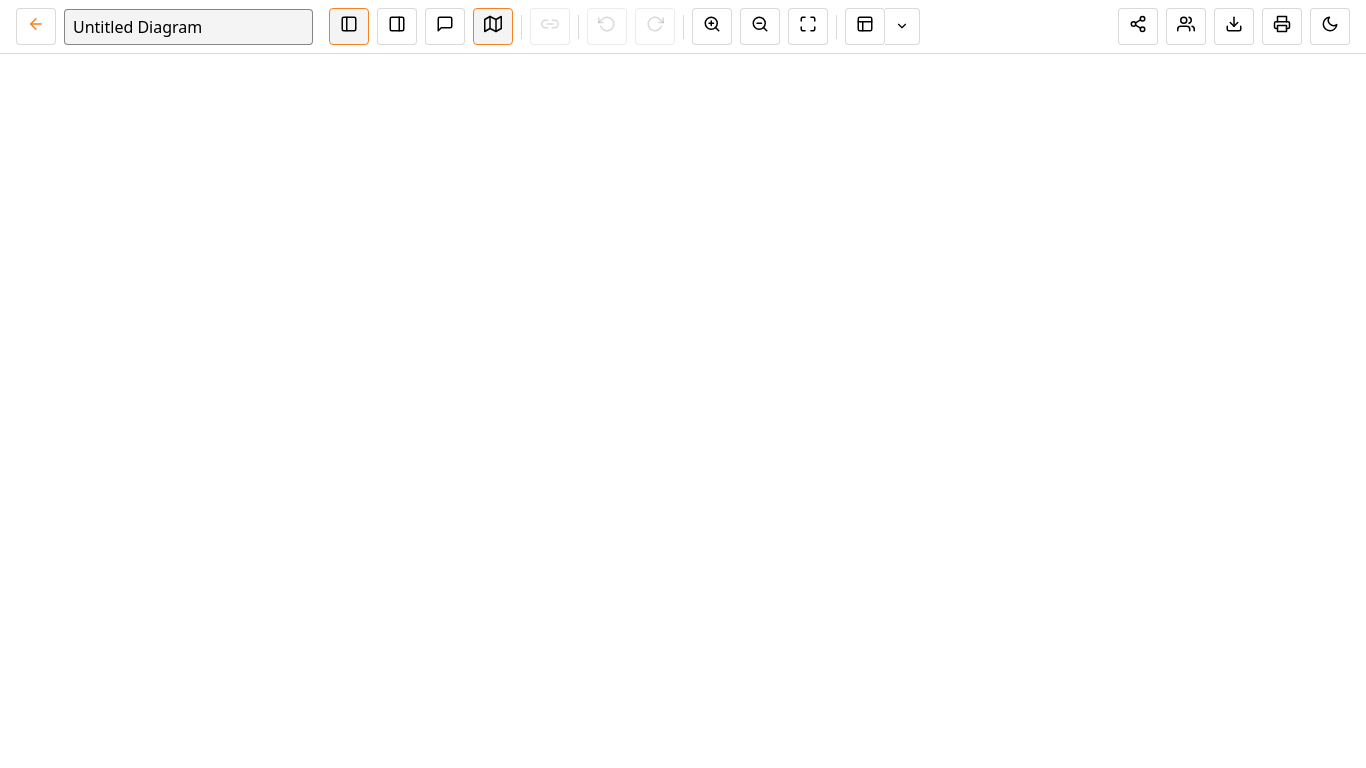
Test: Toolbar › opens the share modal for the loaded diagram
Click the button titled "Share diagram". click: (1138, 26)
box: [1118,8,1158,45]
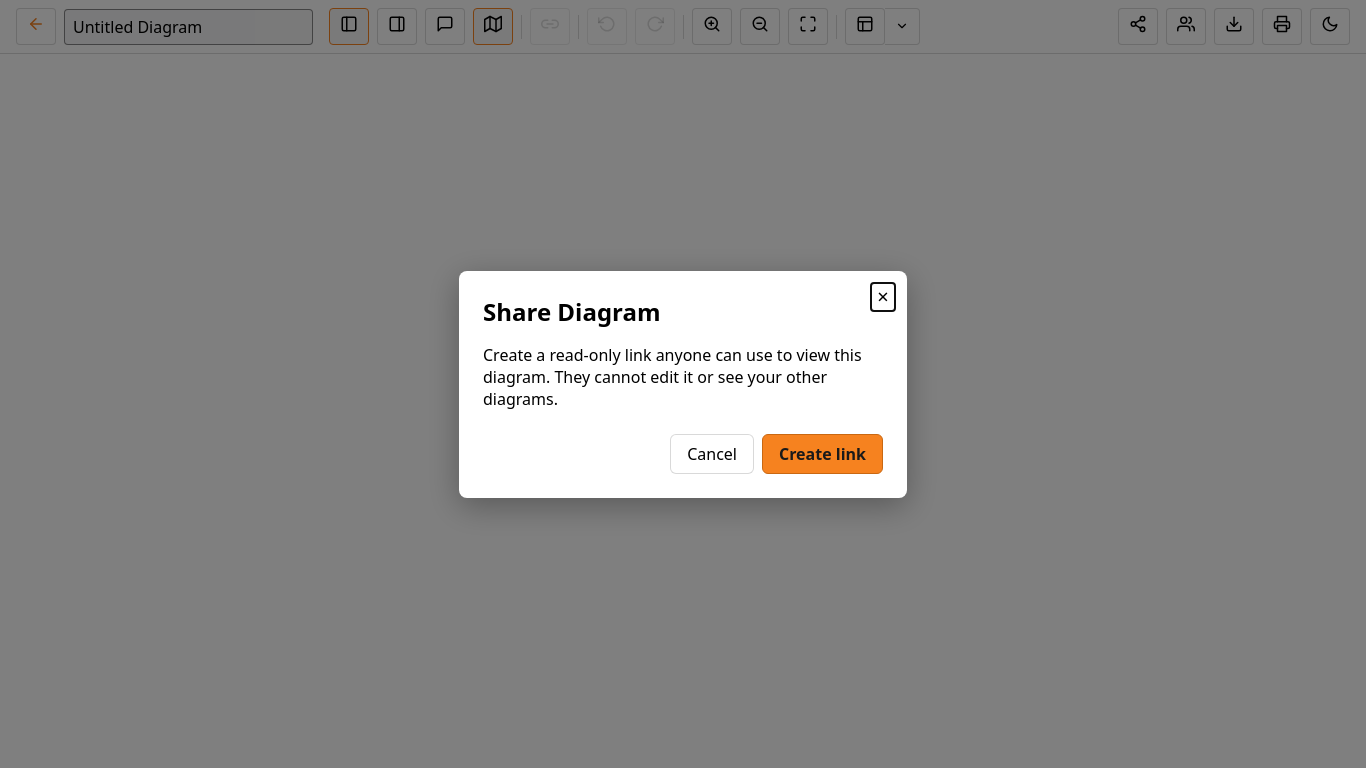
Expected: the dialog is shown, [459,270,907,498]
